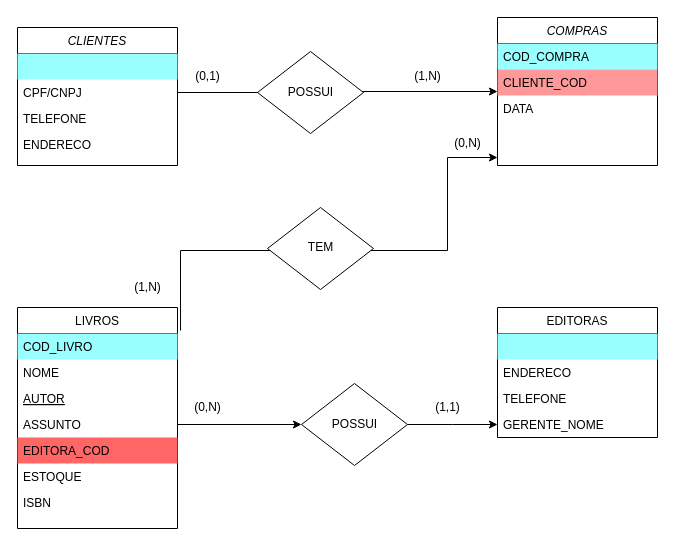
The diagram is 675 pixels wide and 546 high, and some of its shapes have lost their labels. The shapes that lost their labels are listed below. From the top down, each one's centre as x and y in pixels, then its label:
the point at 97,66: COD_CLIENTE
the point at 577,346: COD_EDITORA
